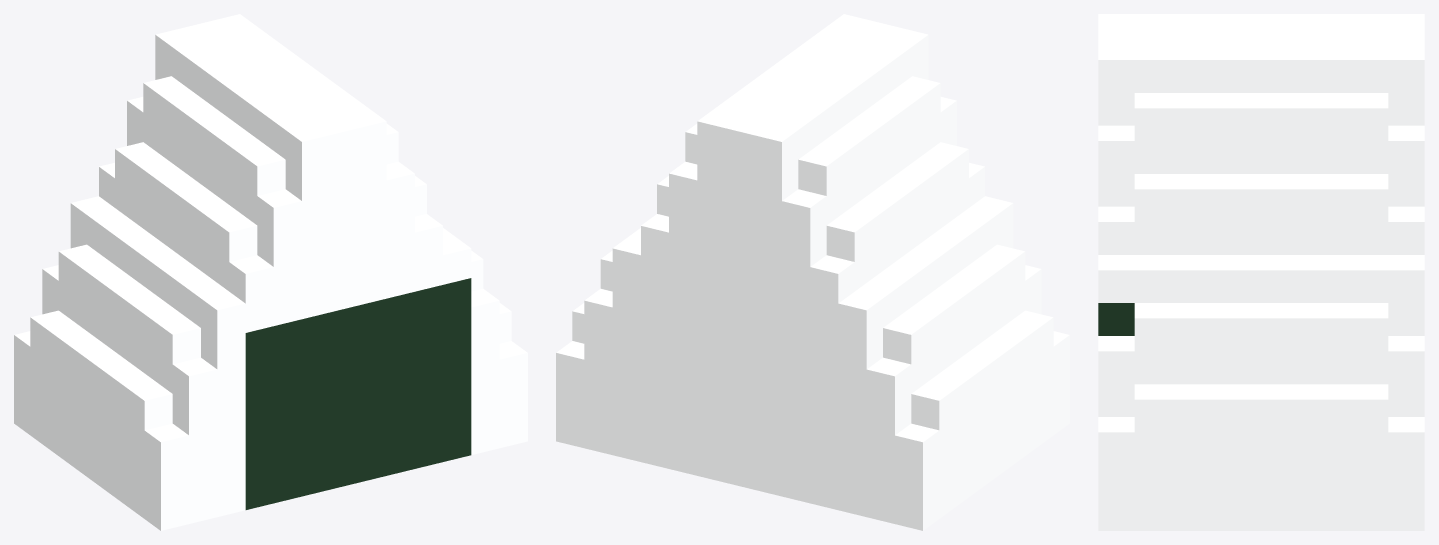
File: voxel-onigiri.glb
The picture shows the model from 3 angles, left to right: view 1: azimuth 30°, elevation 25°; view 2: azimuth 150°, elevation 25°; view 3: azimuth 270°, elevation 25°; orthographic projection. The views are drawn at different scales.
Visible parts, largest first — view 1: onigiri; view 2: onigiri; view 3: onigiri.
Part boxes in pixels (x1,y1,x2,y2): onigiri: (14,14,527,530); onigiri: (556,14,1069,530); onigiri: (1098,14,1424,530).
Size of the model in its own units: 2.4 by 2.22 by 1.66.
